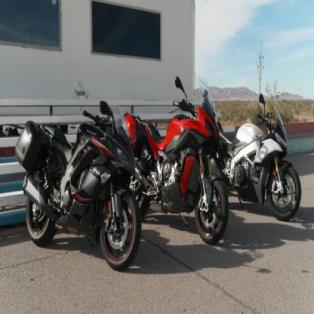Motocicleta: (12, 95, 143, 272), (132, 72, 230, 255), (225, 74, 304, 223)
